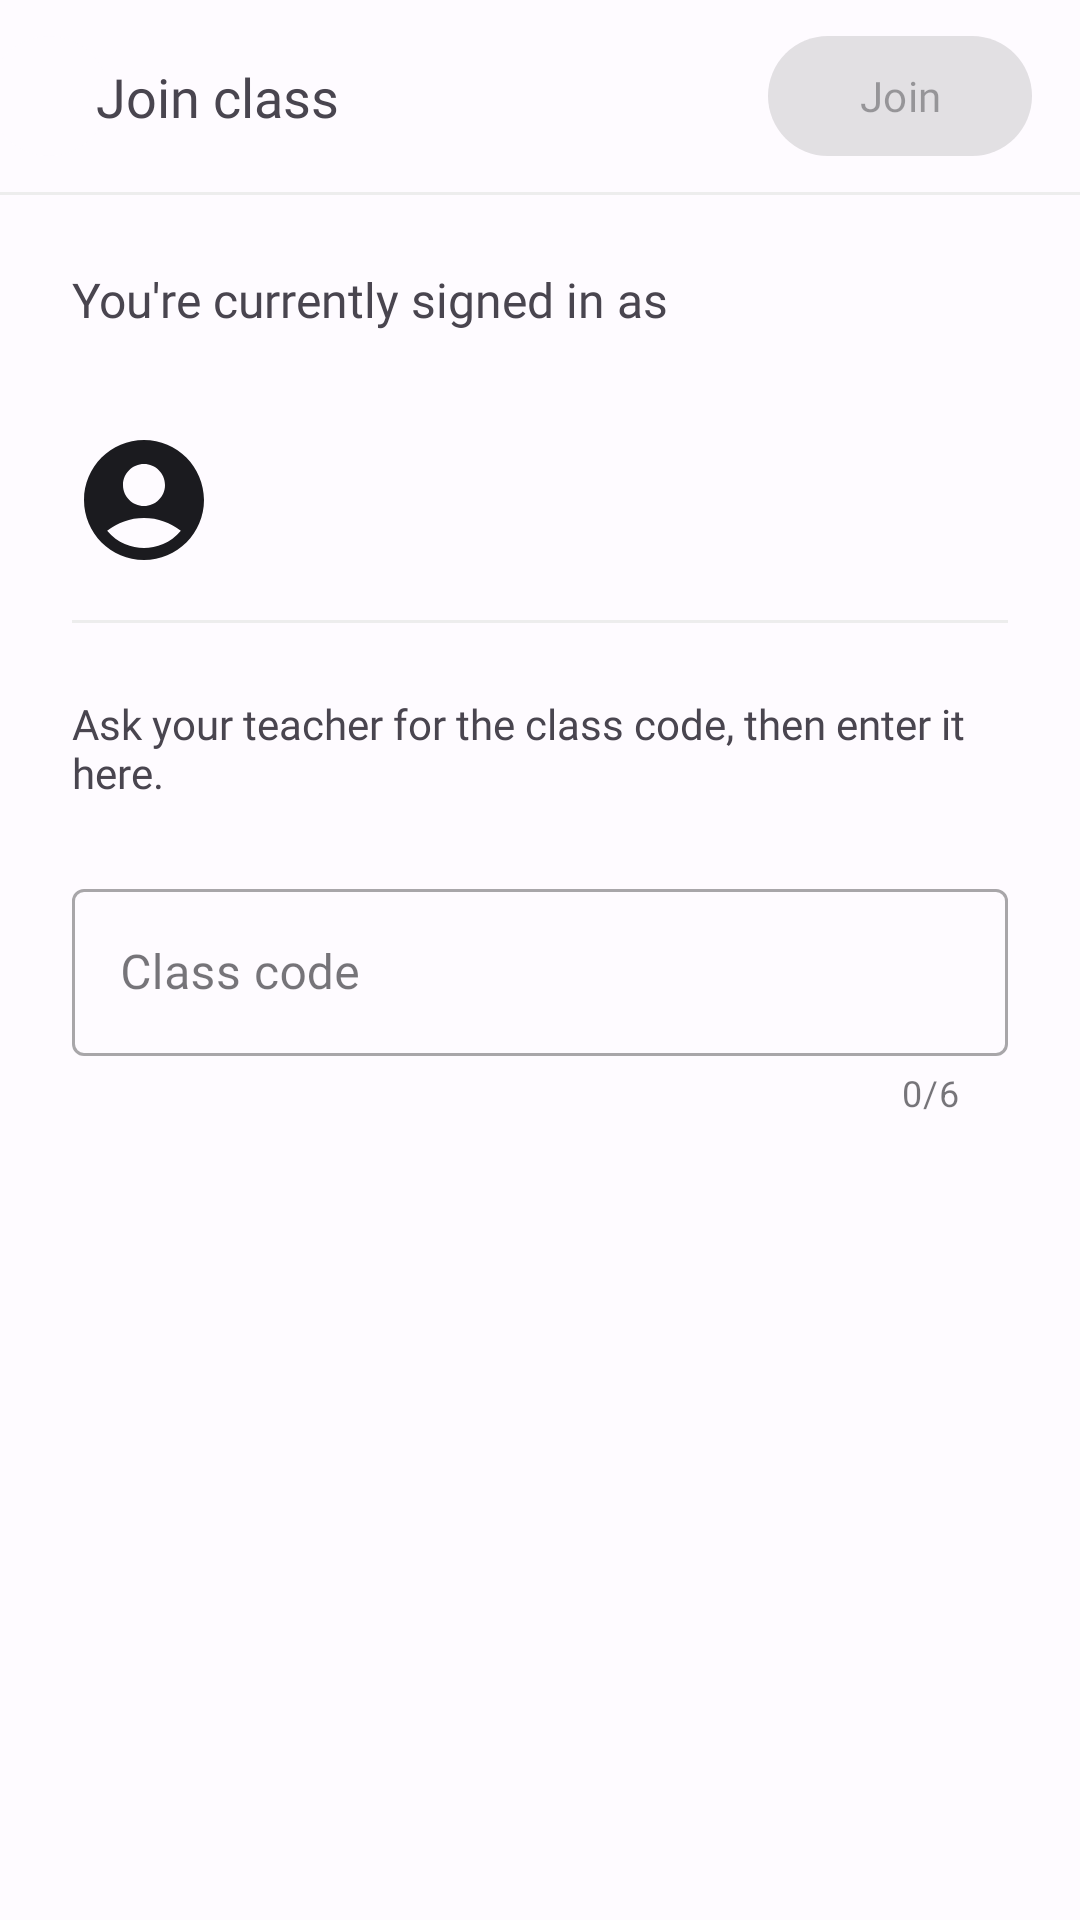

Icons on this 1080w x 1920h Android screen, each with its box as [x1=x1, y1=y1, x2=x2, y2=y2]:
account circle: [x1=84, y1=440, x2=204, y2=560]
